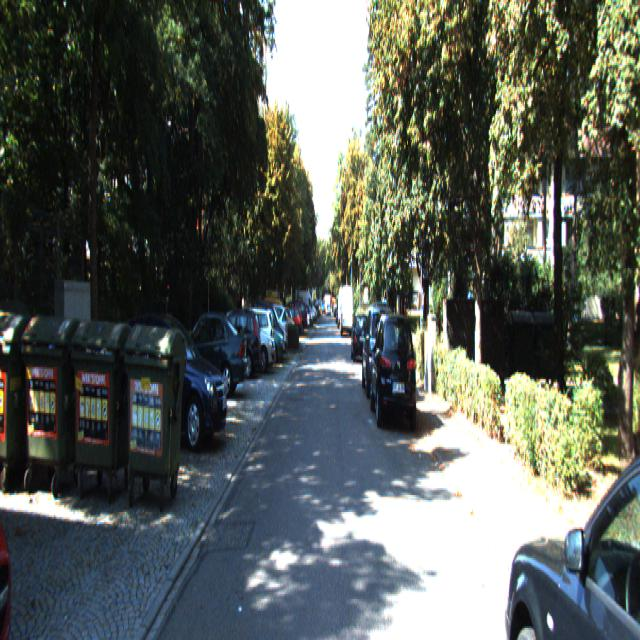Car: (115, 313, 228, 457), (167, 308, 247, 397), (370, 317, 418, 433), (206, 309, 261, 380), (362, 305, 398, 403), (244, 310, 284, 366), (351, 312, 372, 362), (340, 288, 353, 336)
